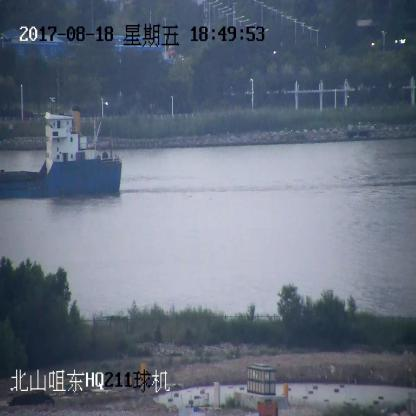Bulk Carrier: (0, 96, 123, 198)
